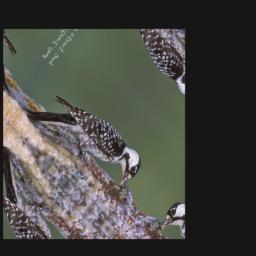Woodpecker: (24, 67, 147, 206)
